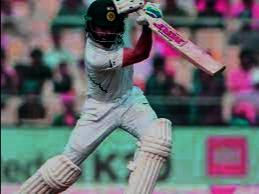batsman: (0, 5, 230, 194)
